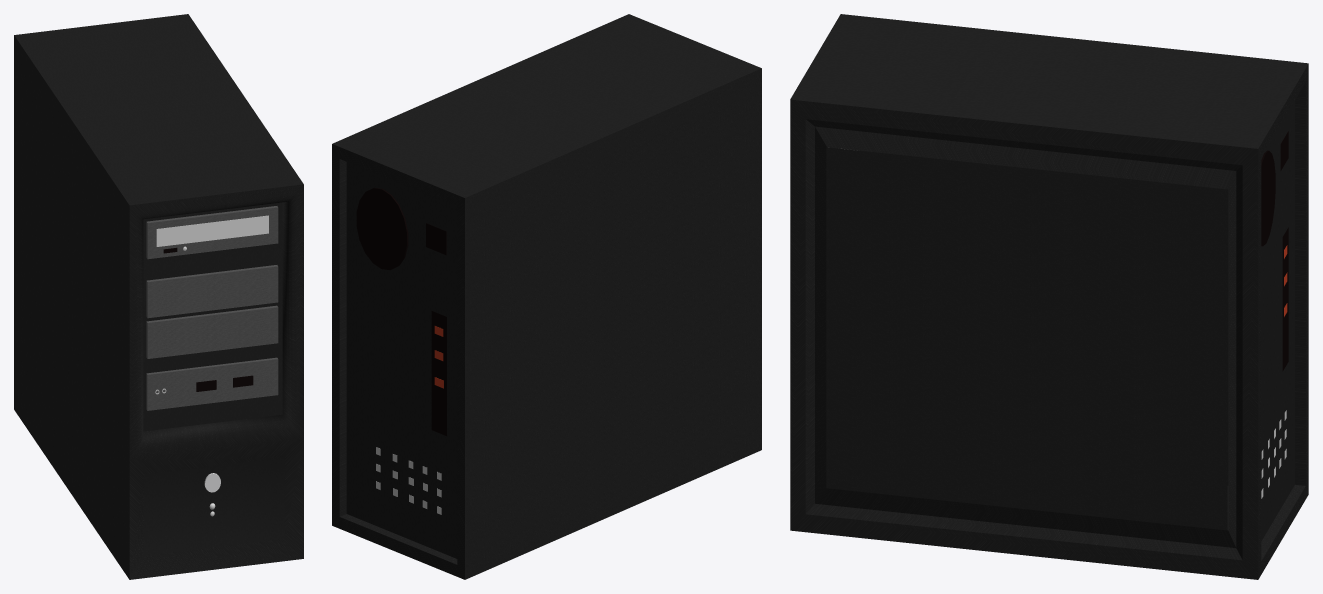
The picture shows the model from 3 angles, left to right: view 1: azimuth 30°, elevation 25°; view 2: azimuth 150°, elevation 25°; view 3: azimuth 270°, elevation 25°; orthographic projection. The views are drawn at different scales.
Parts seen in each view (by area): view 1: Системный блок002, дисковод007, дисковод008, д003, дисковод006, Box076; view 2: Системный блок002, Cylinder026, Box080; view 3: стенка003, Системный блок002, Cylinder026, Box080.
Part boxes in pixels (x1,y1,x2,y2): Системный блок002: (14, 14, 303, 579); дисковод007: (146, 265, 278, 318); дисковод008: (146, 305, 278, 358); д003: (146, 357, 278, 410); дисковод006: (146, 206, 278, 259); Box076: (156, 215, 268, 246); Системный блок002: (332, 14, 761, 579); Cylinder026: (356, 187, 408, 270); Box080: (431, 311, 446, 435); стенка003: (826, 147, 1227, 530); Системный блок002: (790, 14, 1308, 579); Cylinder026: (1261, 150, 1275, 246); Box080: (1282, 227, 1288, 371).
Bounding box in the file's own units: 215 × 320 × 349.
6 materials, 3 textured.
